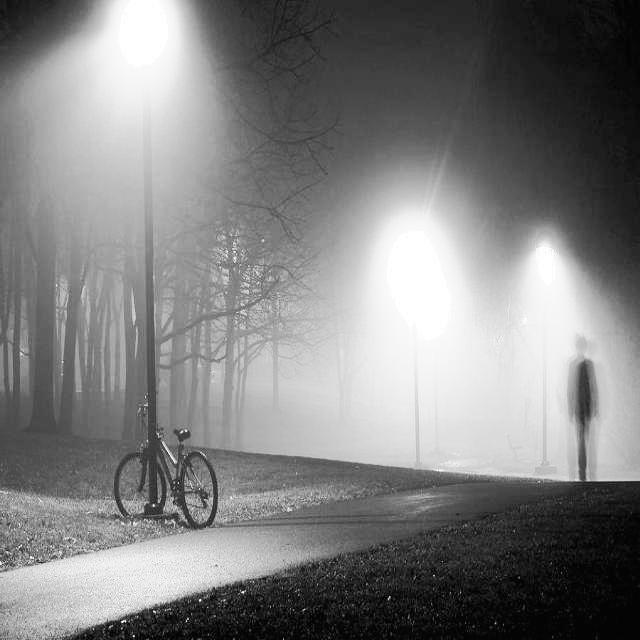Bicycle: (113, 405, 222, 534)
Person: (568, 327, 598, 481)
